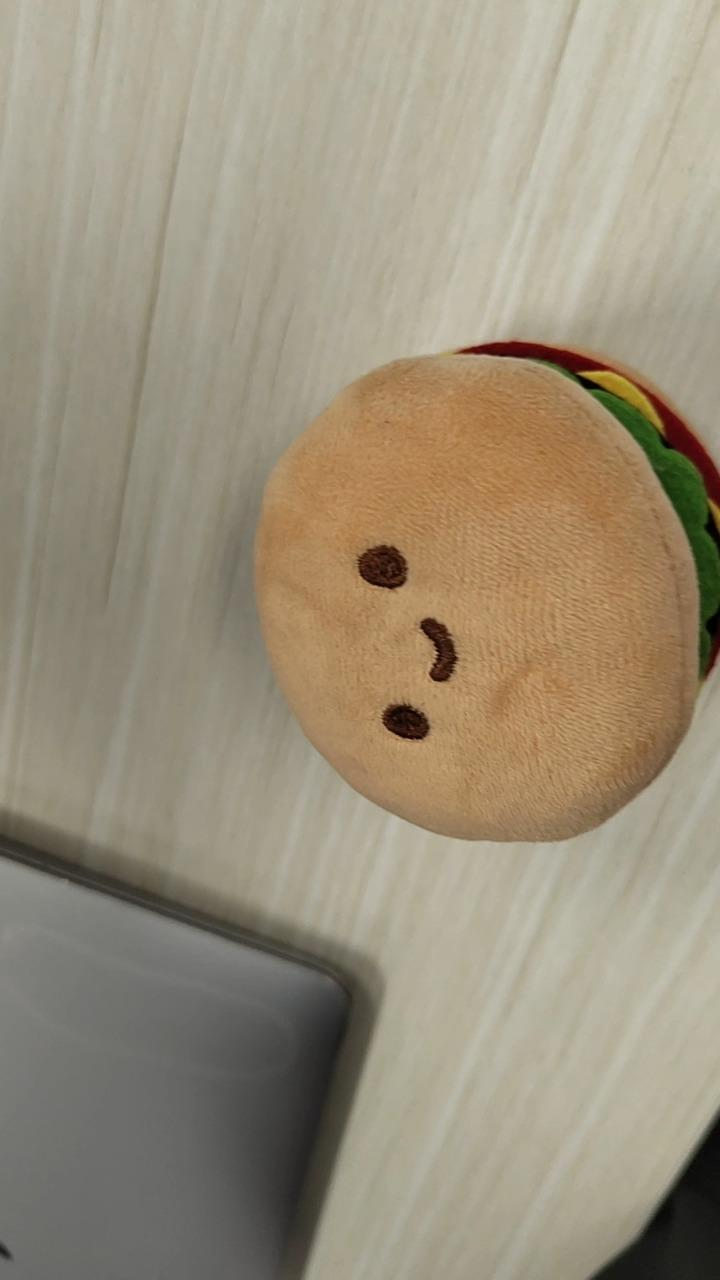hamburger: (251, 339, 718, 844)
